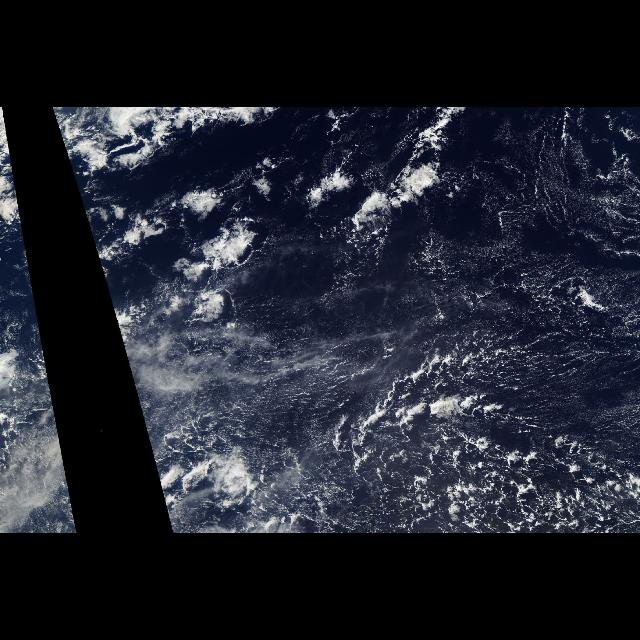Fish: (112, 123, 470, 321)
Gravel: (207, 297, 639, 533)
Sugar: (462, 107, 640, 417), (232, 324, 346, 460)
